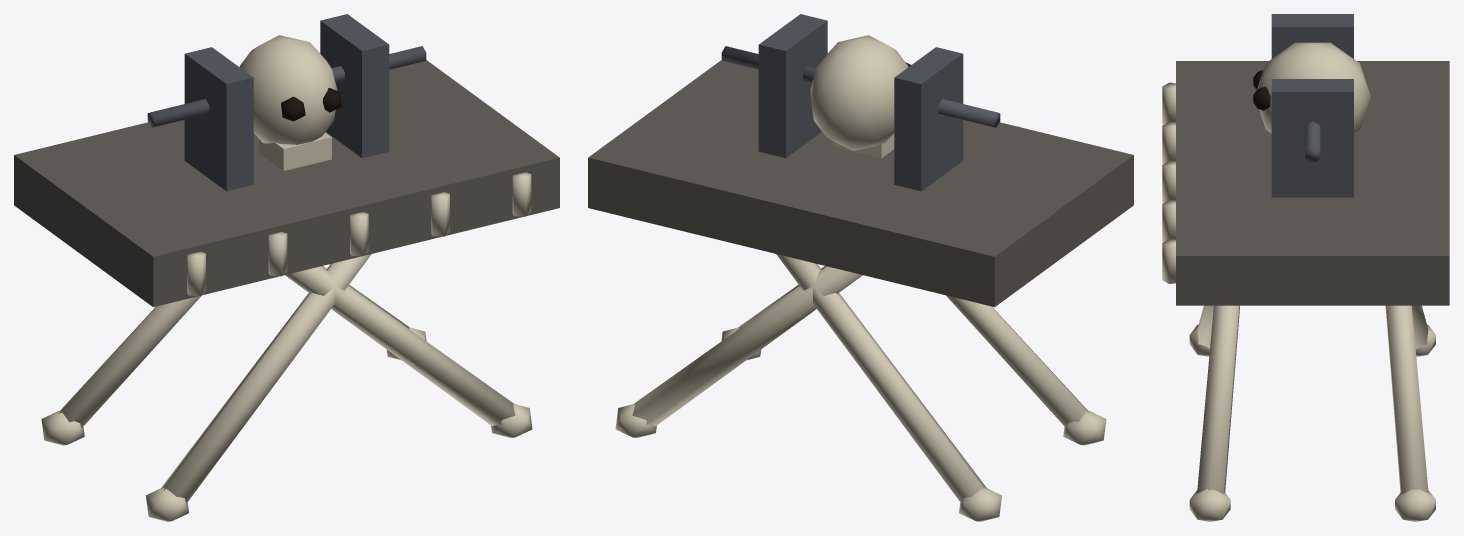
File: bone_welder_v0.glb
3 renders of one model, left to right at view 1: azimuth 30°, elevation 25°; view 2: azimuth 150°, elevation 25°; view 3: azimuth 270°, elevation 25°, orthographic.
Parts seen in each view (by area): view 1: bone_welder_v0; view 2: bone_welder_v0; view 3: bone_welder_v0.
Part boxes in pixels (bbox=[...]): bone_welder_v0: bbox=[14, 14, 559, 521]; bone_welder_v0: bbox=[588, 14, 1133, 521]; bone_welder_v0: bbox=[1162, 14, 1449, 521].
Bounding box in the file's own units: 1.35 × 1.28 × 0.84.
